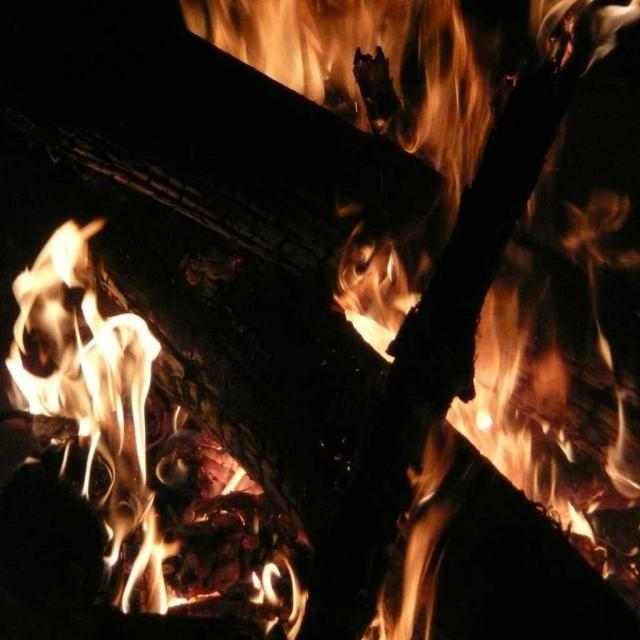Fire: (256, 6, 514, 150), (13, 236, 165, 474), (452, 268, 548, 457), (340, 222, 419, 356)
